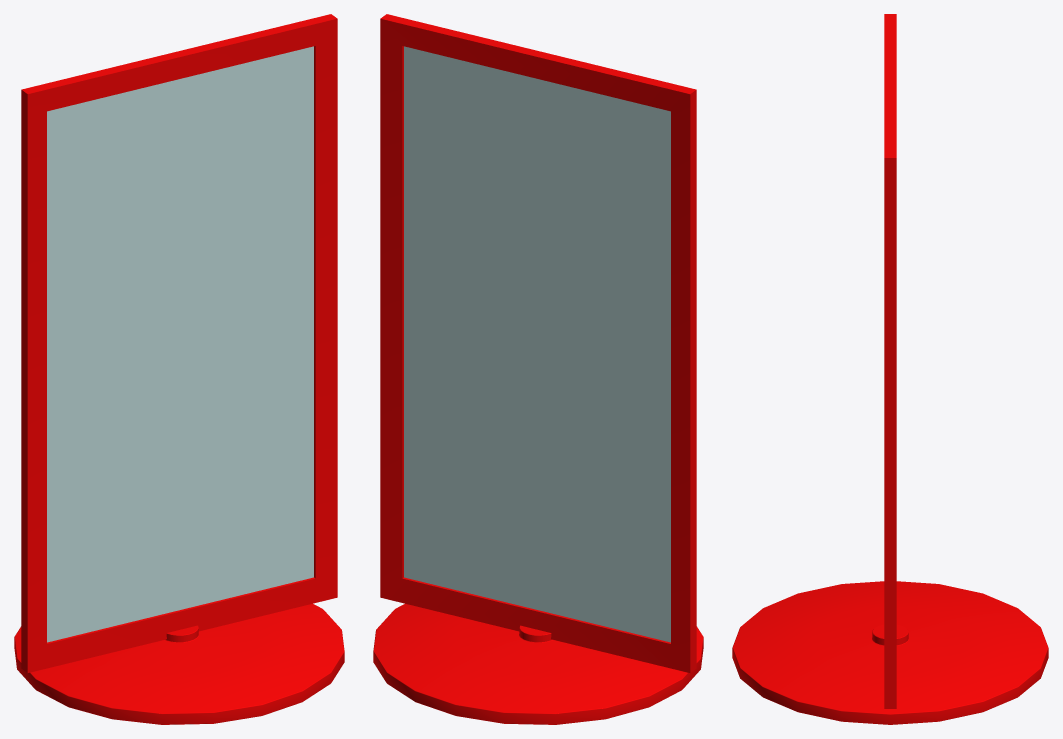
The model's file is mirror 2.fbx.
3 views of the same model, side by side, from view 1: azimuth 30°, elevation 25°; view 2: azimuth 150°, elevation 25°; view 3: azimuth 270°, elevation 25° (orthographic). The views are drawn at different scales.
Visible parts, largest first — view 1: pCube137; view 2: pCube137; view 3: pCube137.
Part boxes in pixels (bbox=[...]): pCube137: bbox=[14, 14, 344, 724]; pCube137: bbox=[373, 14, 703, 724]; pCube137: bbox=[732, 14, 1048, 724].
Size of the model in its own units: 140 by 260 by 130.
